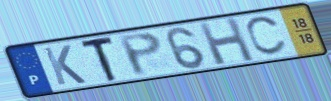6: (165, 25, 208, 71)
C: (244, 14, 289, 58)
H: (196, 16, 258, 67)
K: (41, 44, 89, 87)
P: (115, 30, 164, 78)
T: (80, 34, 120, 84)
